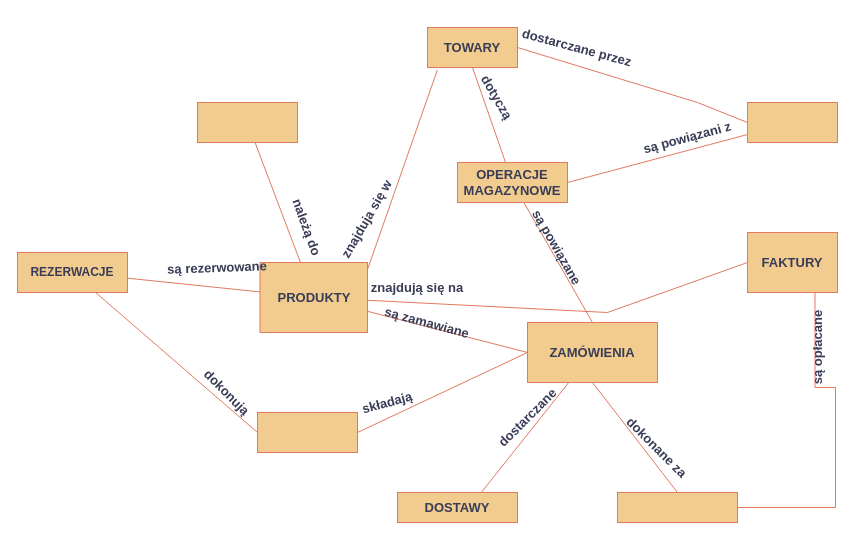
The diagram is 855 pixels wide and 541 high, and some of its shapes have lost their labels. The centre of each missing label's shape, as x and y in pixels:
"KATEGORIE PRODUKTÓW" goes at [247,122].
"PARTNERZY" goes at [792,122].
"PŁATNOŚCI" goes at [677,507].
"UŻYTKOWNICY" goes at [307,432].
